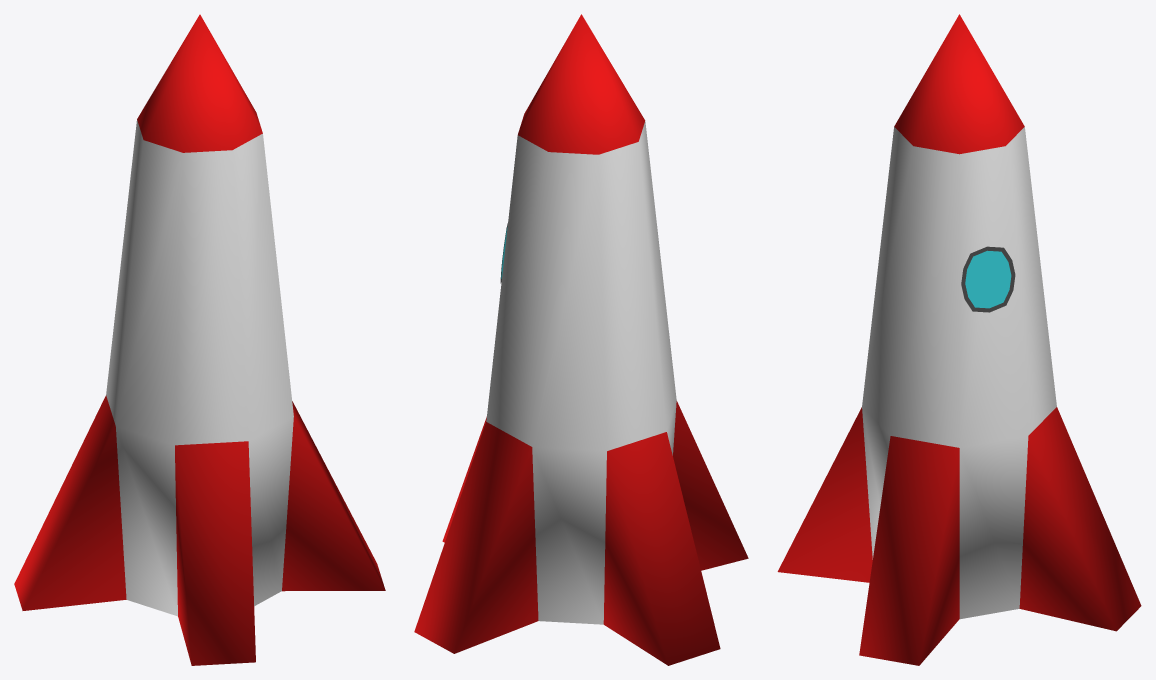
File: Cohete.fbx
The picture shows the model from 3 angles, left to right: view 1: azimuth 30°, elevation 25°; view 2: azimuth 150°, elevation 25°; view 3: azimuth 270°, elevation 25°; orthographic projection.
Visible parts, largest first — view 1: Cohete; view 2: Cohete; view 3: Cohete.
Boxes of the visible parts, left/top/right/bottom form: Cohete: left=14, top=14, right=385, bottom=665; Cohete: left=414, top=14, right=748, bottom=665; Cohete: left=777, top=14, right=1141, bottom=665.
Size of the model in its own units: 0.1675 by 0.2918 by 0.1675.
